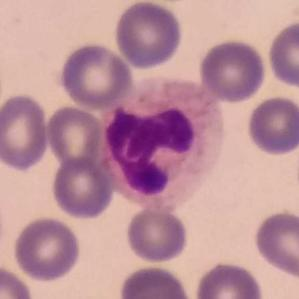Neutrophil: (102, 76, 226, 214)
RBC: (57, 41, 135, 110), (112, 0, 184, 71), (11, 214, 83, 284), (196, 37, 268, 104), (48, 156, 115, 221), (0, 91, 51, 172), (44, 103, 106, 168), (124, 204, 190, 265), (244, 93, 299, 157), (251, 208, 299, 281), (193, 259, 266, 299), (117, 263, 193, 299), (265, 19, 299, 90), (0, 264, 36, 299)
